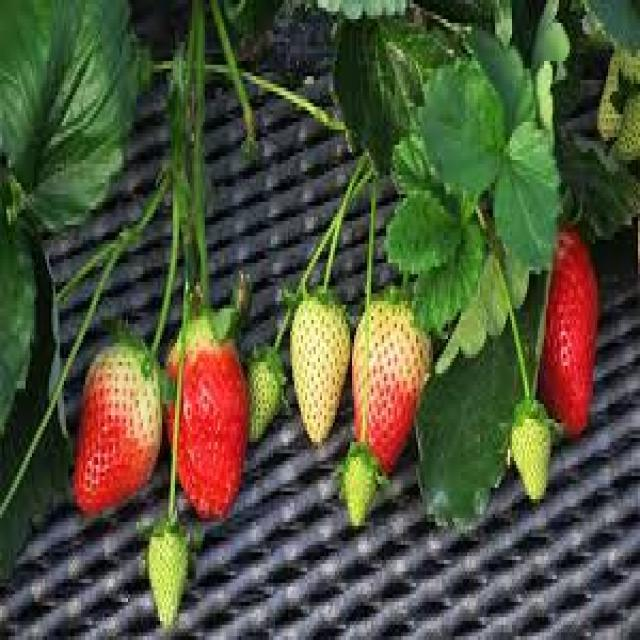Fruta sana: (171, 312, 246, 518), (526, 228, 598, 436), (78, 339, 162, 509), (359, 304, 432, 476), (284, 298, 350, 452), (502, 396, 553, 511), (151, 512, 189, 636), (243, 338, 284, 452), (340, 439, 380, 534)
